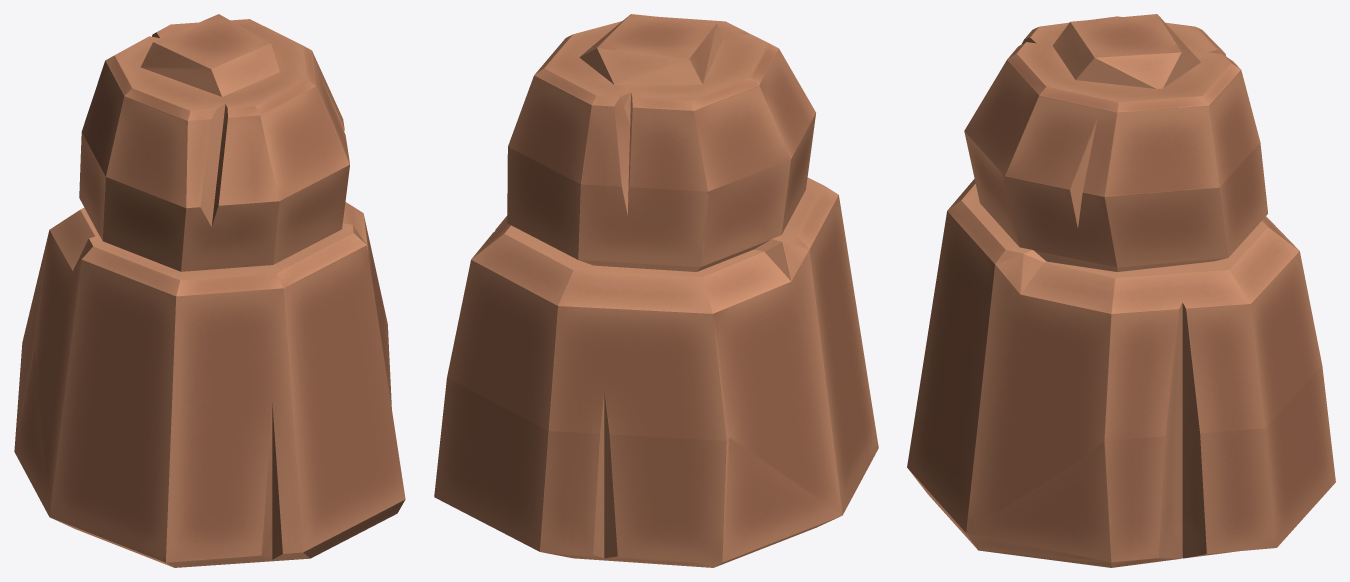
File: small_rock_06.glb
3 renders of one model, left to right at view 1: azimuth 30°, elevation 25°; view 2: azimuth 150°, elevation 25°; view 3: azimuth 270°, elevation 25°, orthographic. The views are drawn at different scales.
Parts seen in each view (by area): view 1: Cube.016_Small_rock_2_0; view 2: Cube.016_Small_rock_2_0; view 3: Cube.016_Small_rock_2_0.
Boxes of the visible parts, box(x1,y1,x2,y2) form: Cube.016_Small_rock_2_0: box(14, 14, 405, 567); Cube.016_Small_rock_2_0: box(434, 14, 878, 567); Cube.016_Small_rock_2_0: box(907, 14, 1335, 567).
Bounding box in the file's own units: 2.59 × 3.21 × 2.72.
1 material, 1 textured.
